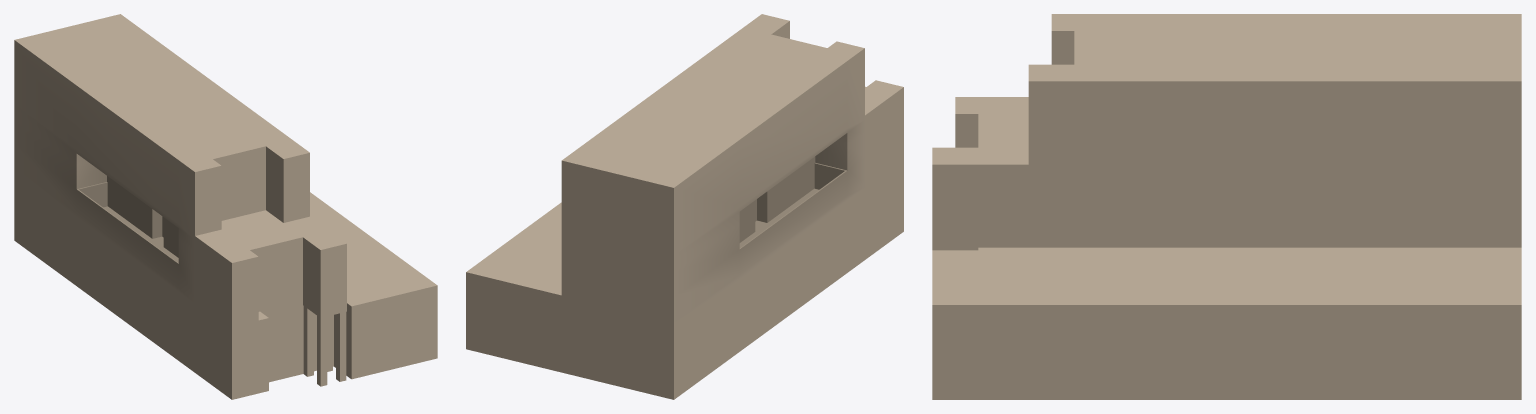
The model's file is massing.glb.
The picture shows the model from 3 angles, left to right: view 1: azimuth 30°, elevation 25°; view 2: azimuth 150°, elevation 25°; view 3: azimuth 270°, elevation 25°; orthographic projection. The views are drawn at different scales.
Visible parts, largest first — view 1: building/exterior; view 2: building/exterior; view 3: building/exterior.
Part boxes in pixels (x1,y1,x2,y2): building/exterior: (14, 14, 437, 399); building/exterior: (466, 14, 903, 399); building/exterior: (932, 14, 1521, 399).
Size of the model in its own units: 9.03 by 8.8 by 18.
